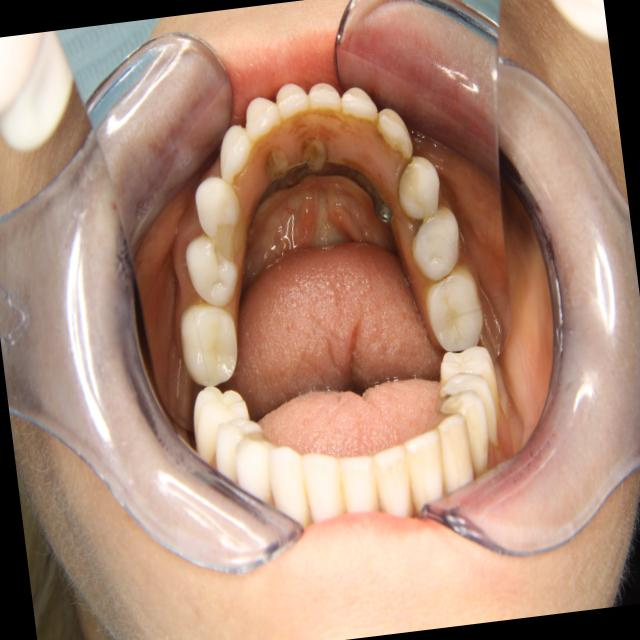tooth: (168, 292, 249, 392), (414, 256, 492, 358), (174, 222, 248, 314), (403, 193, 469, 288), (386, 140, 447, 227), (191, 172, 247, 243), (210, 118, 259, 190), (371, 97, 417, 168), (239, 90, 285, 150), (334, 81, 381, 135), (272, 74, 314, 132), (300, 71, 345, 124)
